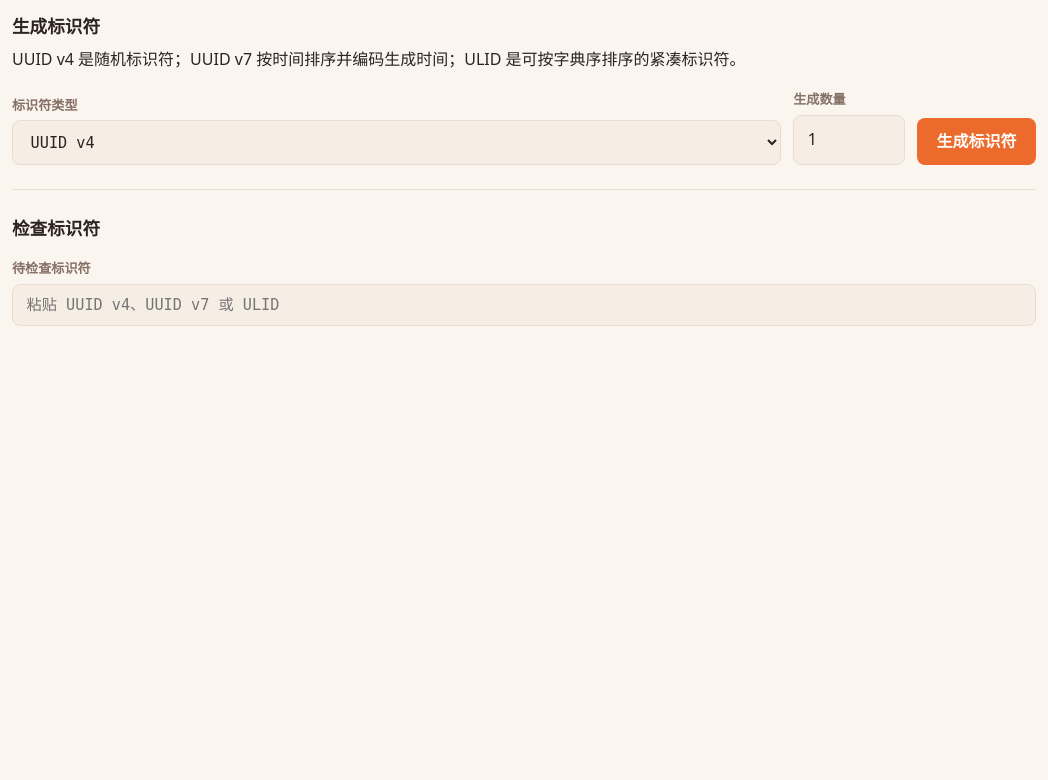
Test: copies an individual identifier and the whole newline-delimited list with one status region
Replace the text in the number field labelled "生成数量" with "3" at (849, 140), box [793,115,905,165]
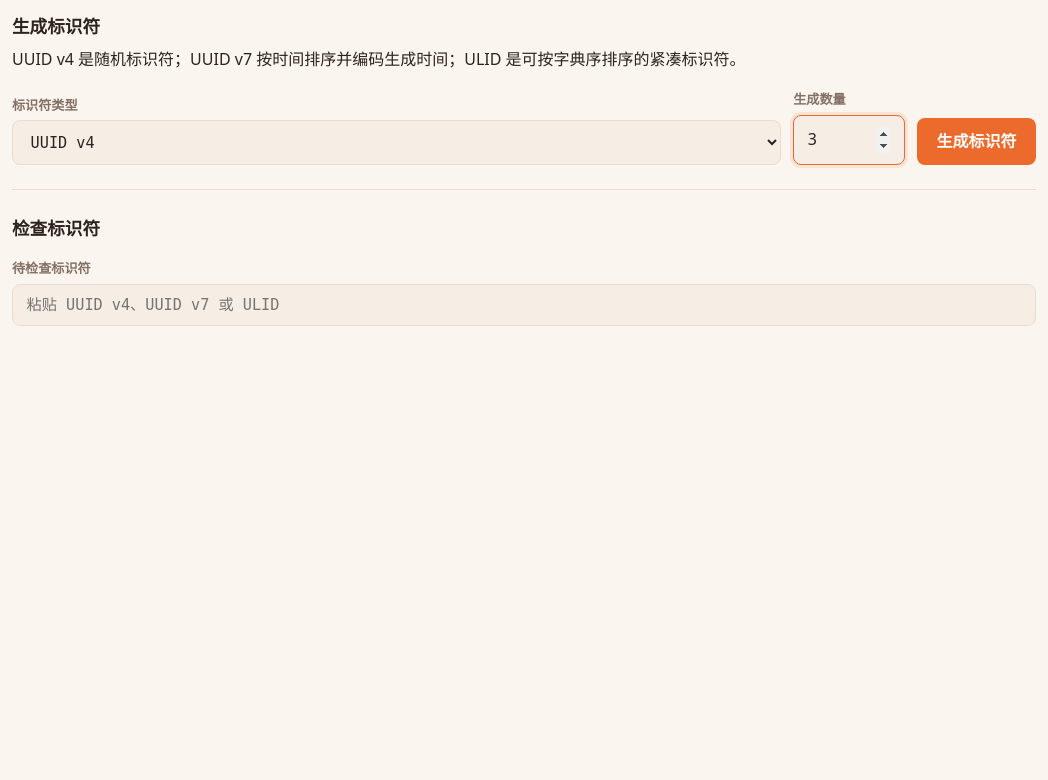
Click the button "生成标识符".
click(977, 141)  # box [917,118,1036,165]
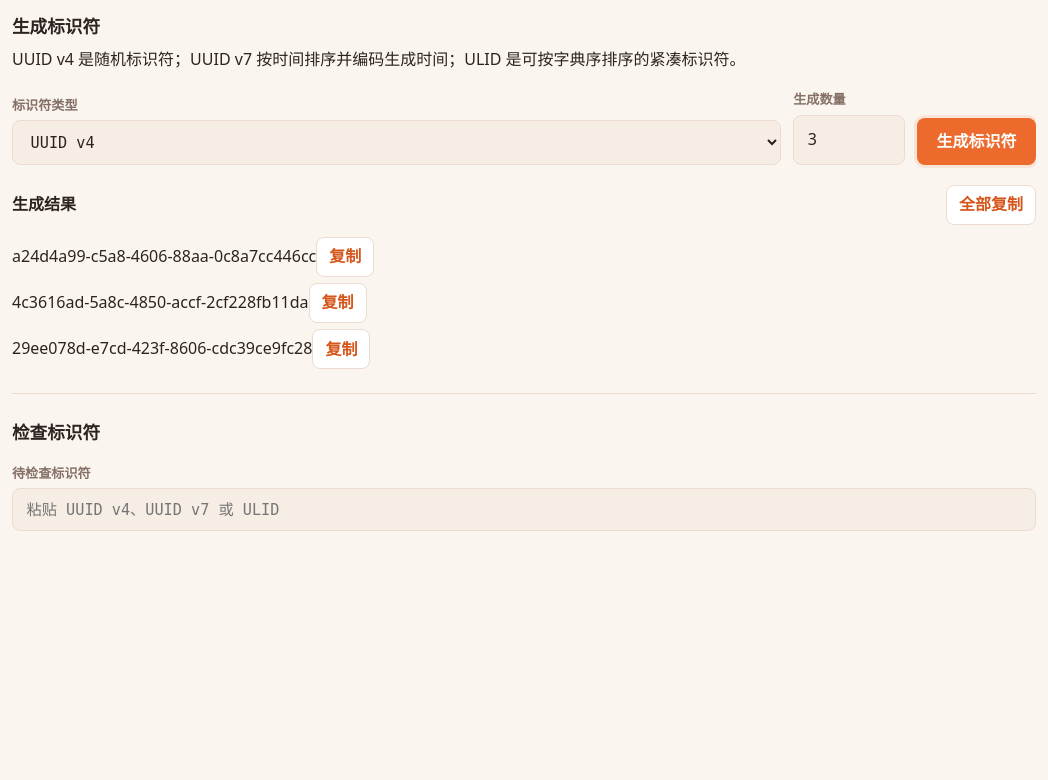
Click the button with aria-label "复制第 2 个标识符".
click(338, 303)  # box [308,283,366,323]
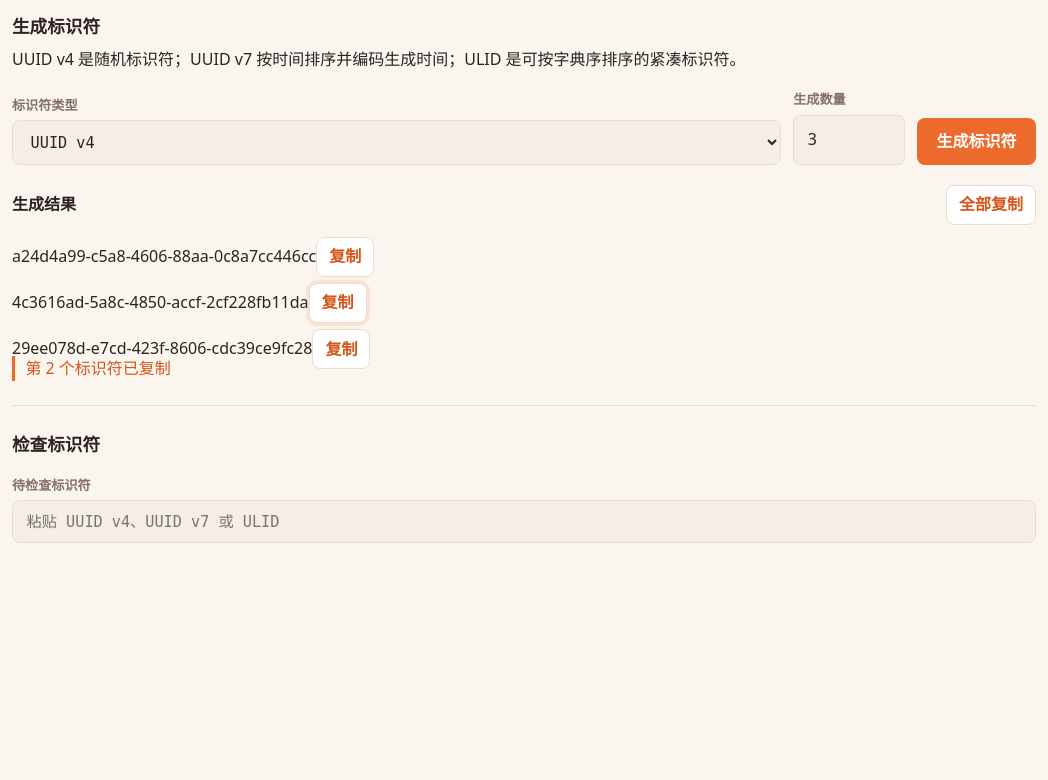
Expected: the number of messages is 1, [12,356,1036,382]
Expected: the message reads "第 2 个标识符已复制", [25,357,171,379]
Click the button "全部复制".
click(991, 205)  # box [946,185,1036,225]
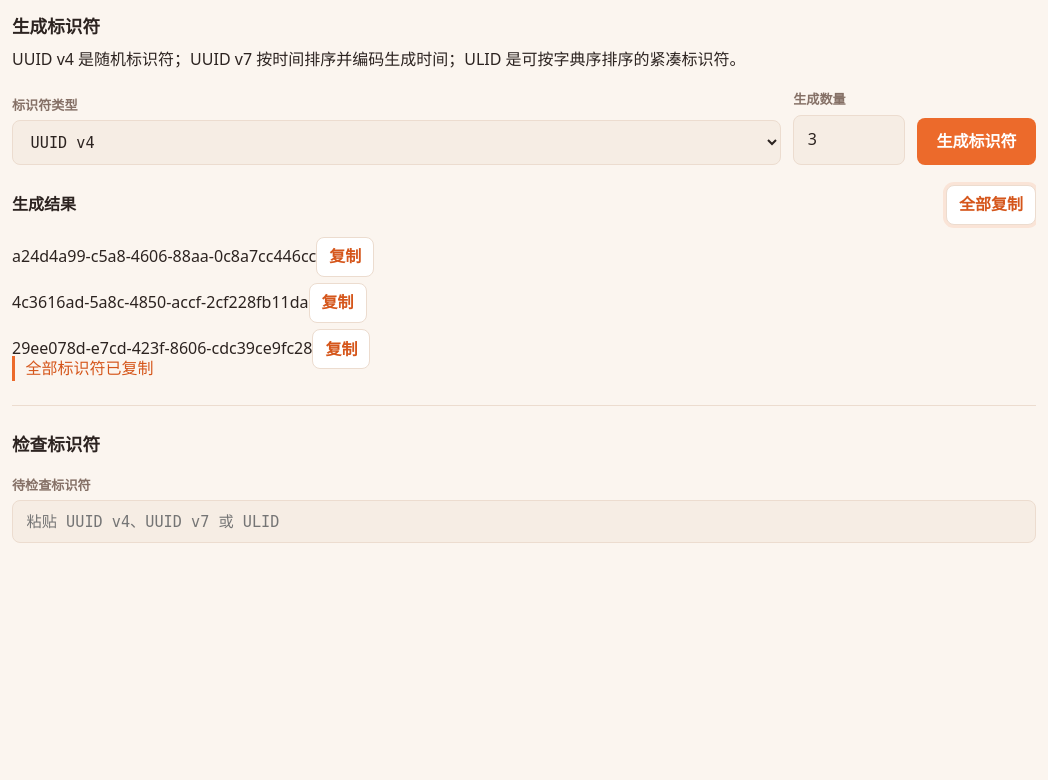
Expected: the number of messages is 1, [12,356,1036,382]
Expected: the message reads "全部标识符已复制", [25,357,153,379]
